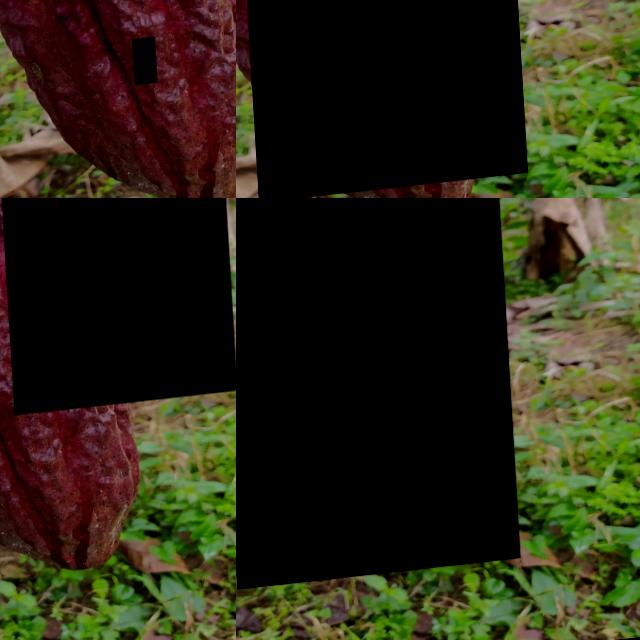Fitoftora: (0, 198, 232, 422)
Monilia: (236, 0, 521, 198)
Sana: (236, 198, 513, 592), (127, 44, 152, 92)
